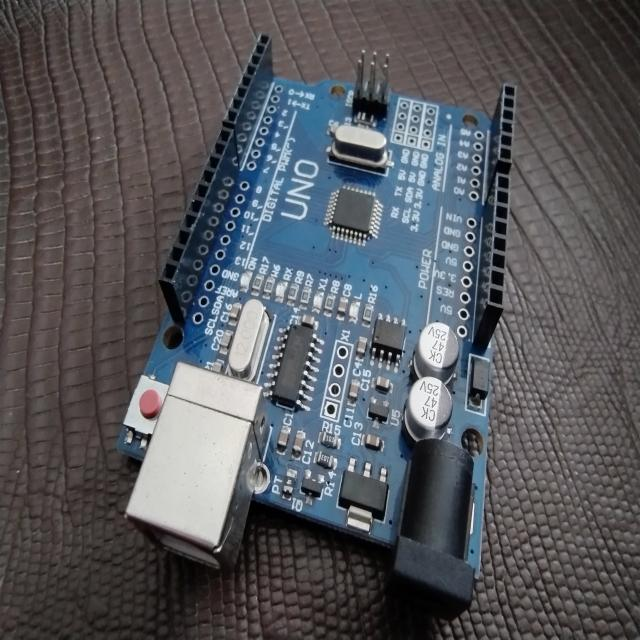arduino: (107, 24, 526, 618)
